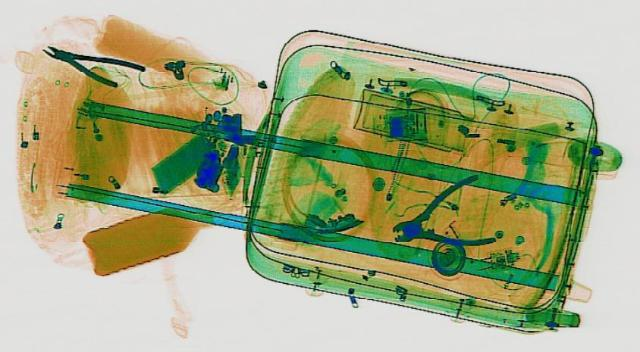Pliers: (356, 173, 532, 259), (28, 35, 148, 88)
